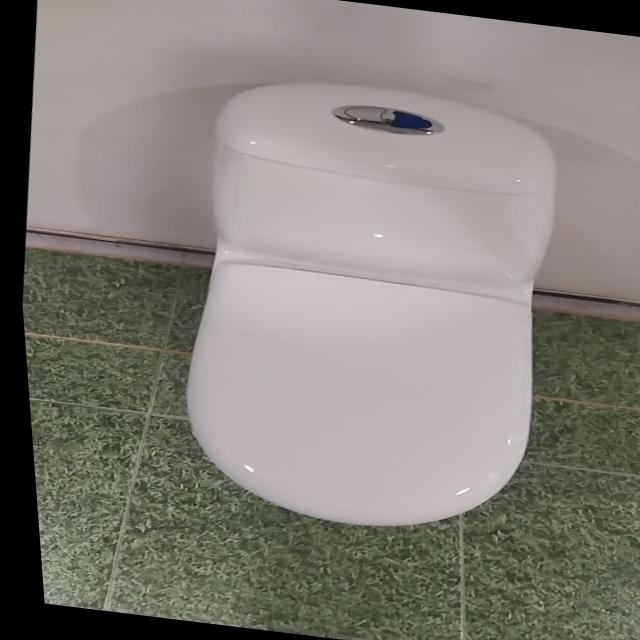toilet: (145, 64, 585, 547)
